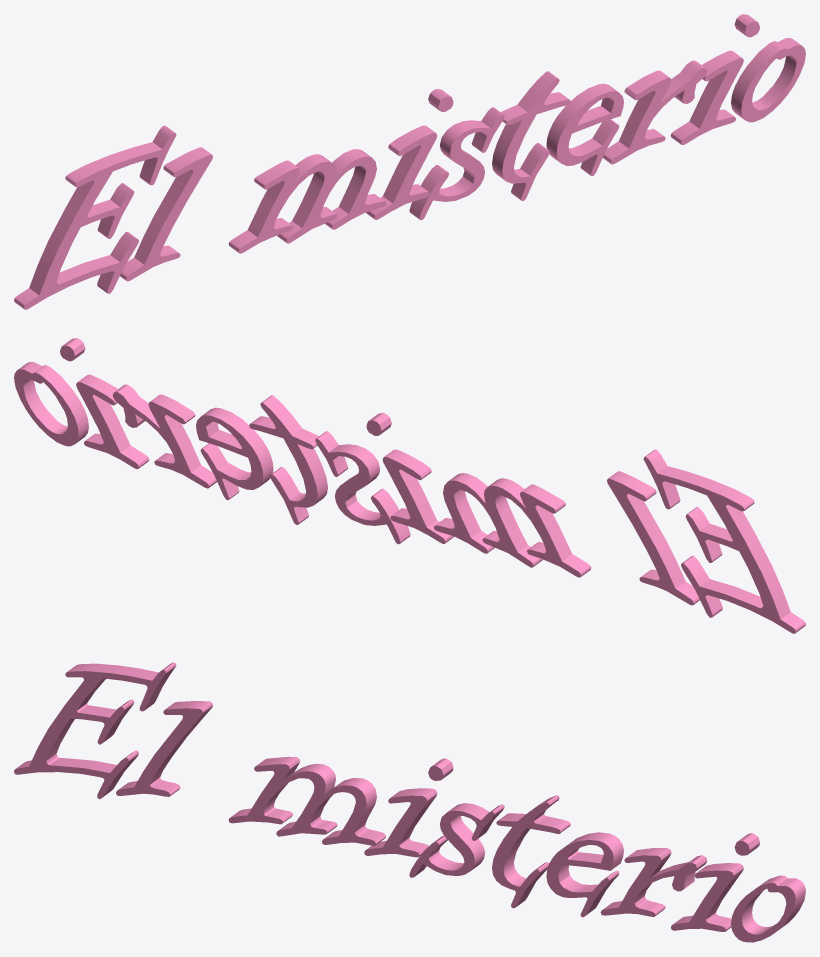
The model's file is titulo_tiendaDesconocida.fbx.
3 views of the same model, one above another, from view 1: azimuth 30°, elevation 25°; view 2: azimuth 150°, elevation 25°; view 3: azimuth 330°, elevation 25° (orthographic).
Parts seen in each view (by area): view 1: El_misterio1; view 2: El_misterio1; view 3: El_misterio1.
Part boxes in pixels (x1,y1,x2,y2): El_misterio1: (14, 14, 805, 309); El_misterio1: (14, 338, 805, 633); El_misterio1: (14, 662, 805, 942).
Size of the model in its own units: 1.32 by 0.2477 by 0.03.
